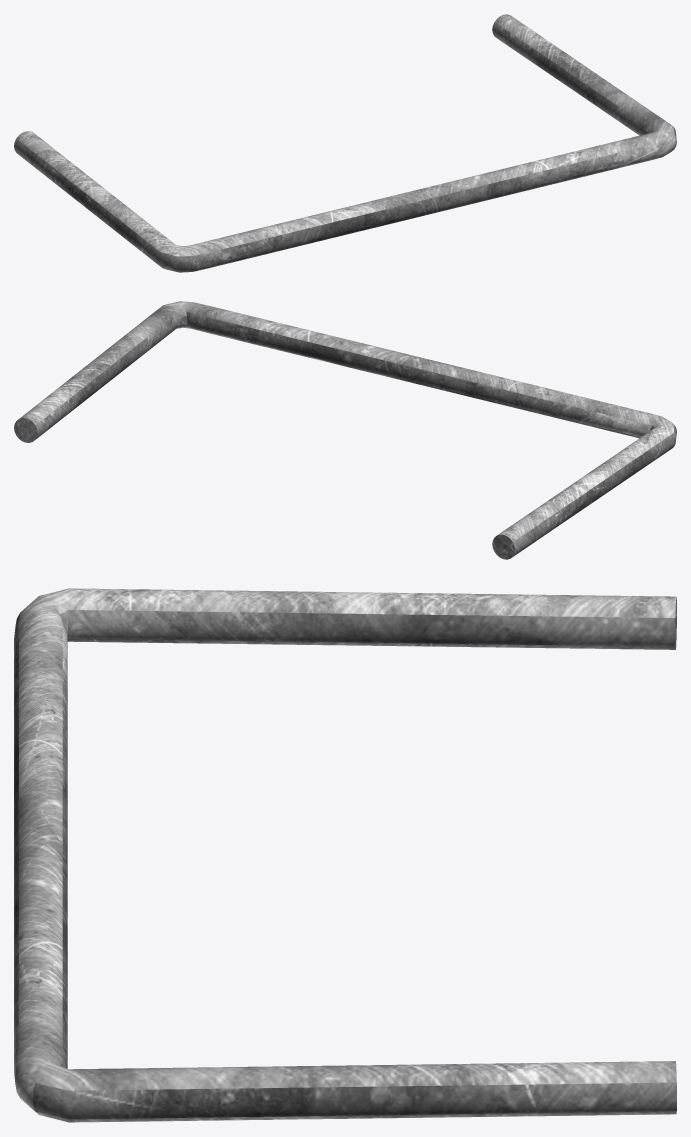
File: Escalera.fbx
The picture shows the model from 3 angles, top to bottom: view 1: azimuth 30°, elevation 25°; view 2: azimuth 150°, elevation 25°; view 3: azimuth 270°, elevation 25°; orthographic projection. The views are drawn at different scales.
Visible parts, largest first — view 1: BarroteEscalera; view 2: BarroteEscalera; view 3: BarroteEscalera.
Part boxes in pixels (box(x1,y1,x2,y2)): BarroteEscalera: box(14, 14, 676, 272); BarroteEscalera: box(14, 301, 676, 559); BarroteEscalera: box(14, 588, 676, 1122).
Size of the model in its own units: 177 by 8 by 98.69.
Materials: 1 (1 with a texture image).
